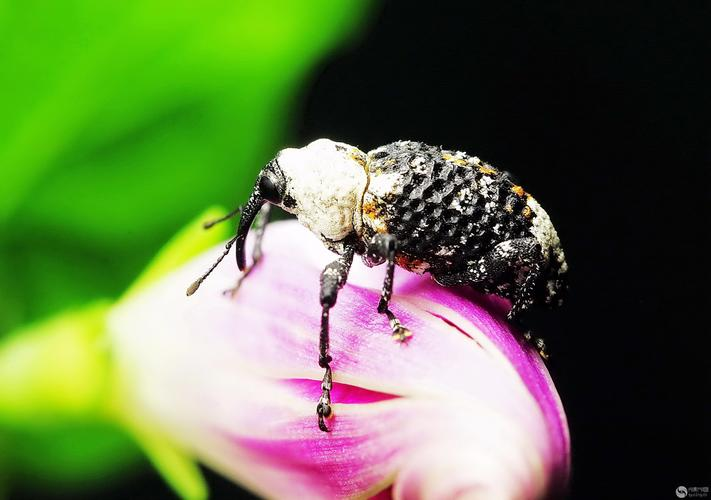Curculionidae: (185, 136, 568, 432)
